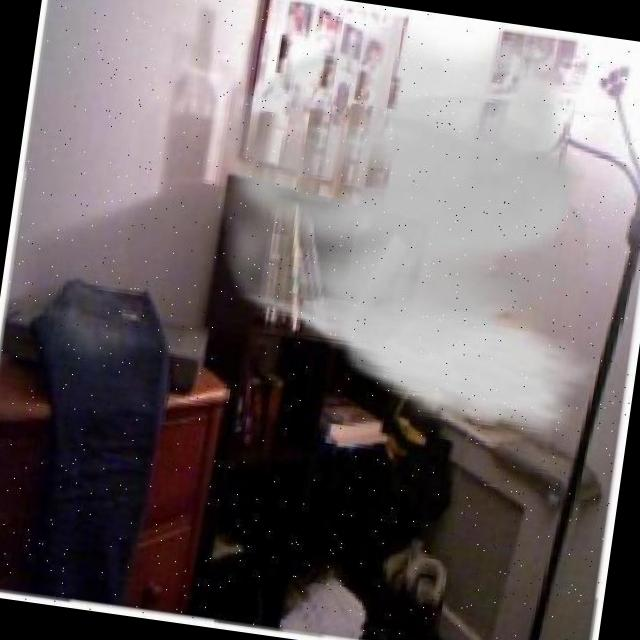Smoke: (225, 30, 640, 453)
